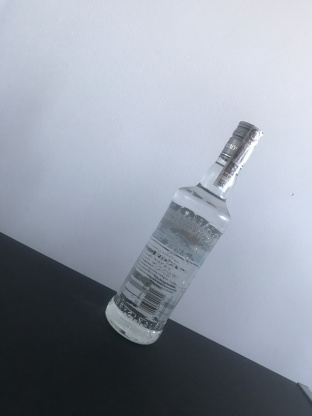nakretka: (217, 117, 265, 171)
